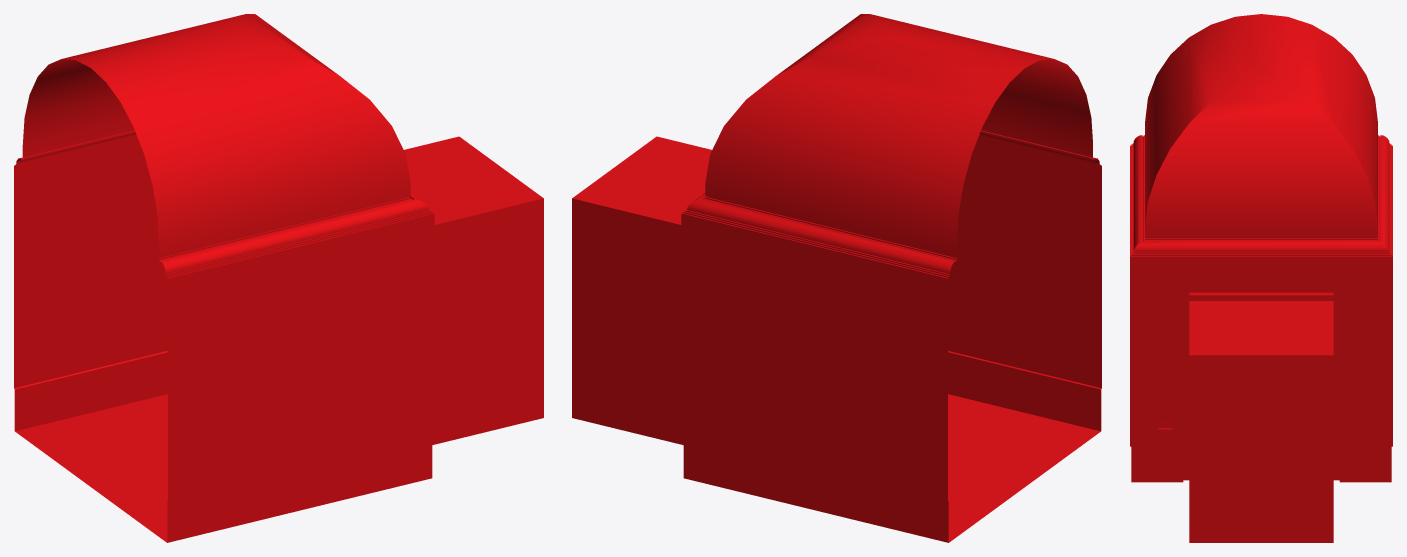
The model's file is Elevator.fbx.
The picture shows the model from 3 angles, left to right: view 1: azimuth 30°, elevation 25°; view 2: azimuth 150°, elevation 25°; view 3: azimuth 270°, elevation 25°; orthographic projection. The views are drawn at different scales.
Parts seen in each view (by area): view 1: Ascenseur; view 2: Ascenseur; view 3: Ascenseur.
Part boxes in pixels (<box>): Ascenseur: <box>14,14,543,542</box>; Ascenseur: <box>572,14,1101,542</box>; Ascenseur: <box>1130,14,1392,542</box>.
Size of the model in its own units: 1232 by 1204 by 800.
